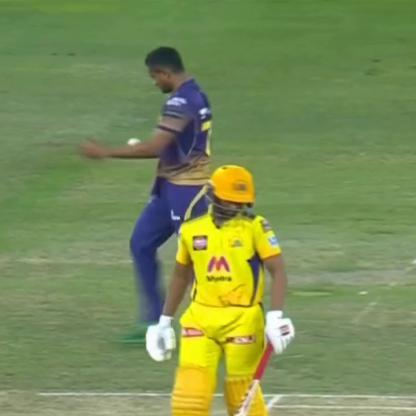ball: (121, 135, 144, 151)
